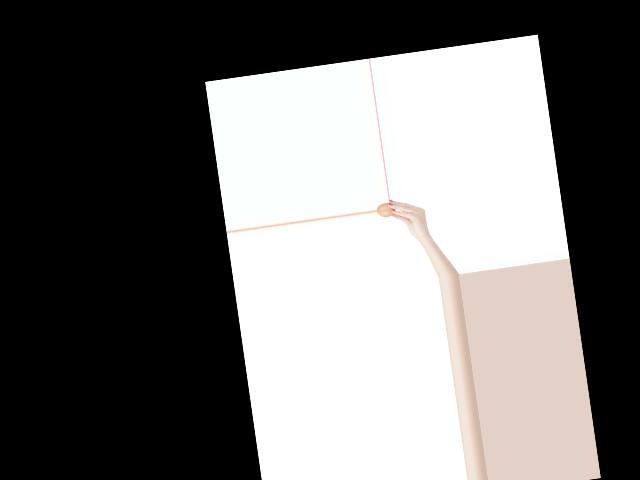egg: (376, 201, 396, 218)
